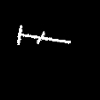double_crochet: (17, 26, 70, 44)
